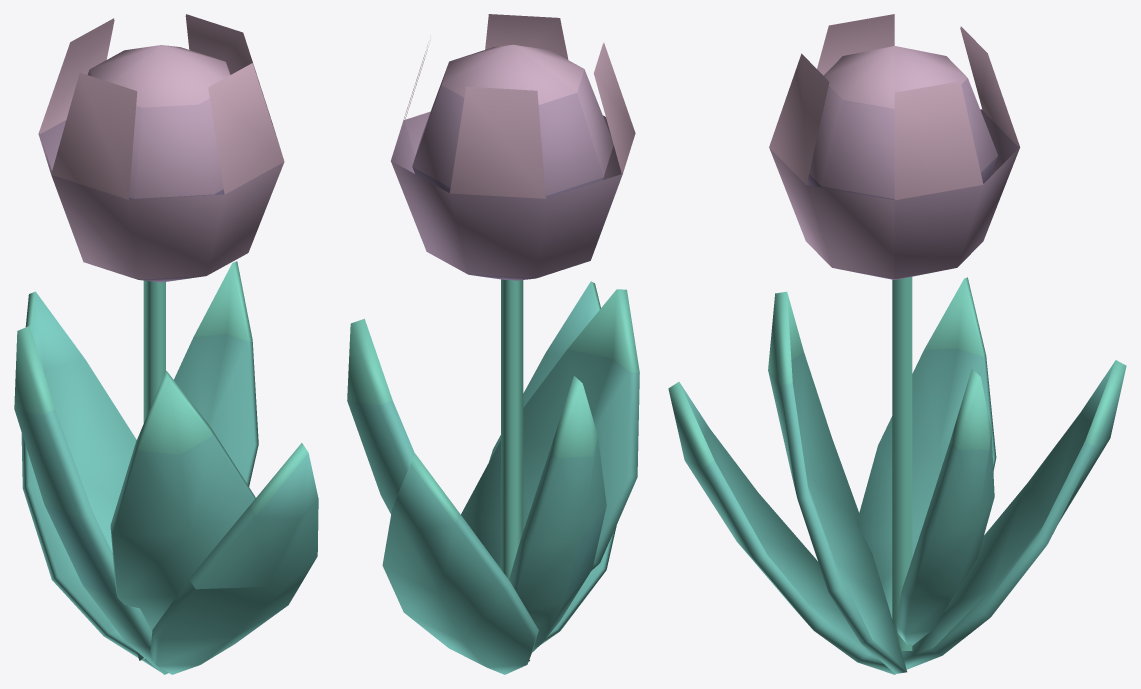
Rendered from tulip_purple.glb.
3 views of the same model, side by side, from view 1: azimuth 30°, elevation 25°; view 2: azimuth 150°, elevation 25°; view 3: azimuth 270°, elevation 25° (orthographic).
Visible parts, largest first — view 1: Tulip_Purple.001; view 2: Tulip_Purple.001; view 3: Tulip_Purple.001.
Boxes of the visible parts, left/top/right/bottom form: Tulip_Purple.001: left=14, top=14, right=318, bottom=674; Tulip_Purple.001: left=347, top=14, right=639, bottom=674; Tulip_Purple.001: left=668, top=14, right=1126, bottom=674.
Bounding box in the file's own units: 0.1734 × 0.442 × 0.2942.
